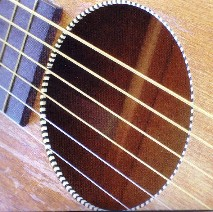guitar: (1, 1, 213, 212)
